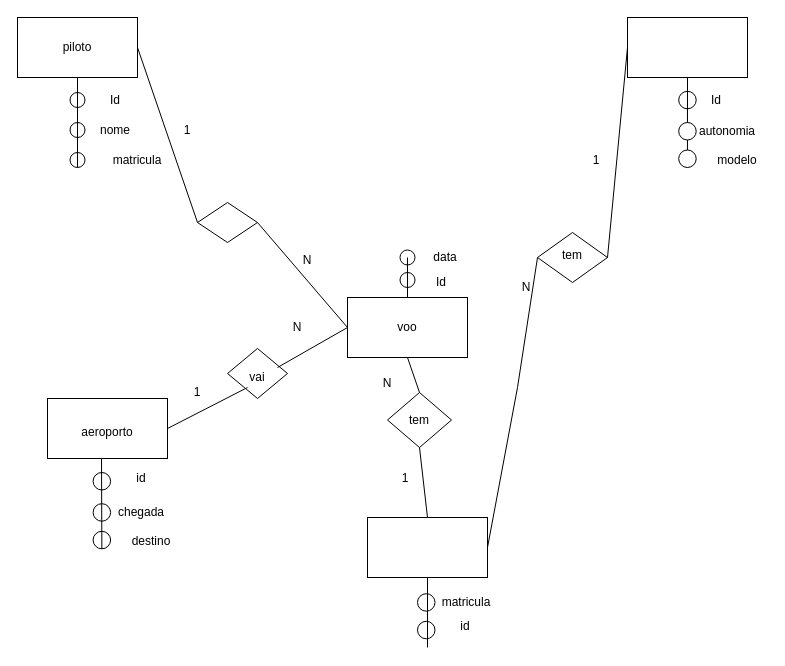
Some shapes in this 785 by 666 pixel diagram are drawn without their labels. The centre of each missing label's shape, as x and y in pixels:
aviao: the point at 427,547
marca: the point at 687,47
pilota: the point at 227,222
